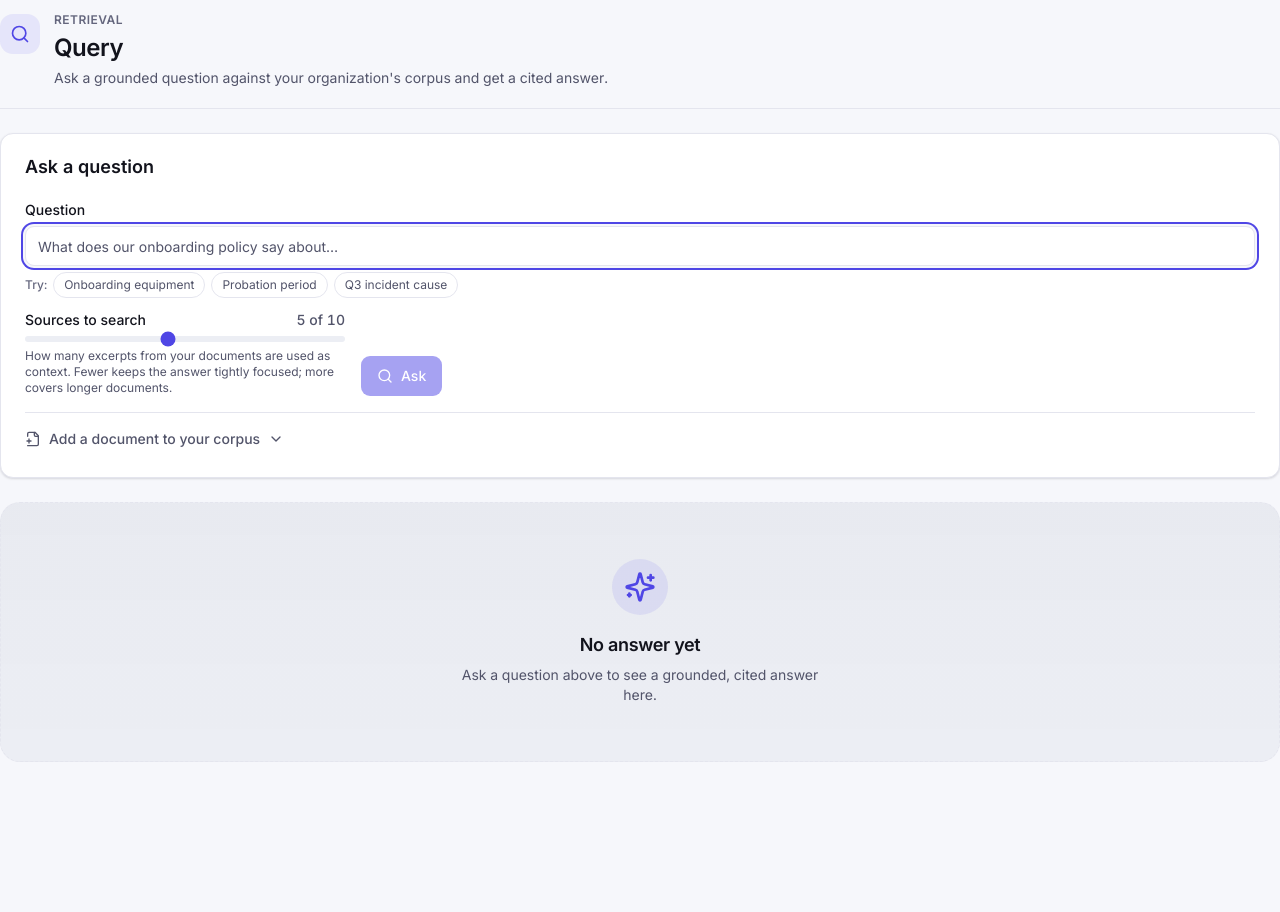
it: RagQueryView (MSW) › resolves citation document ids to human-readable filenames
Type "hello" into the field with test id "query-input" at (640, 246), box 25,226 -> 1255,266
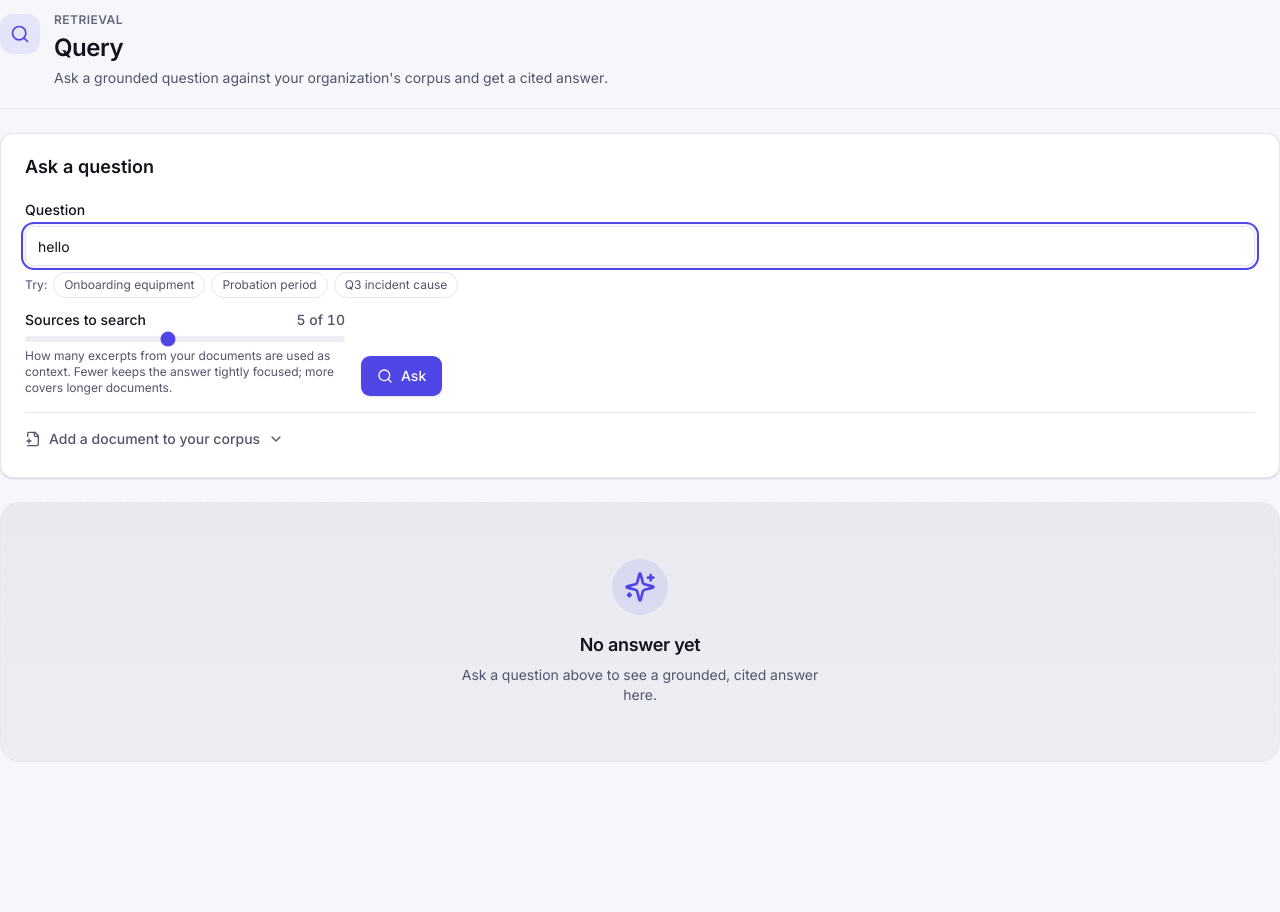
Click the button with test id "query-submit" at (402, 376), box 361,356 -> 442,396
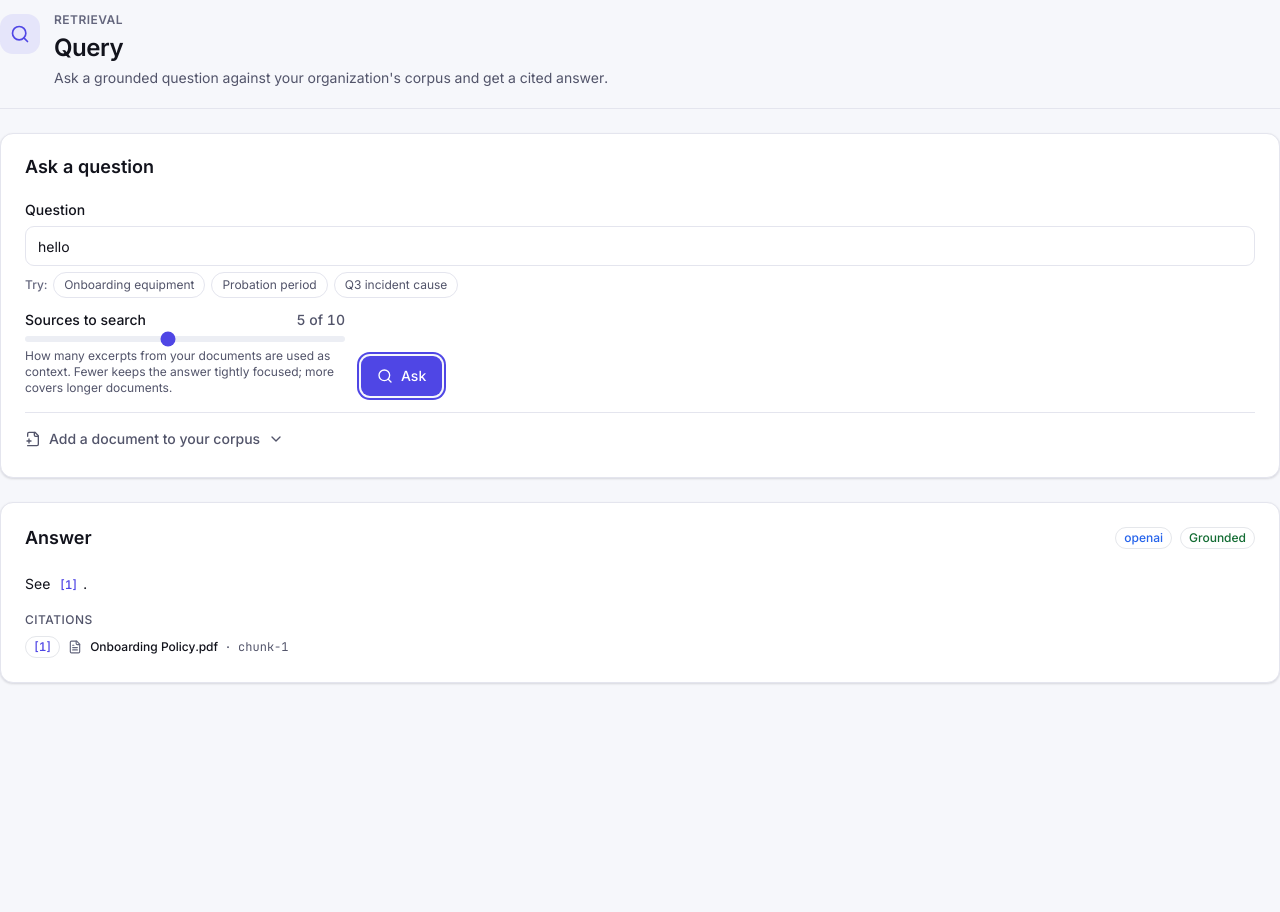
Expected: the text with test id "citation-doc-1" reads "Onboarding Policy.pdf", 90,639 -> 218,654
